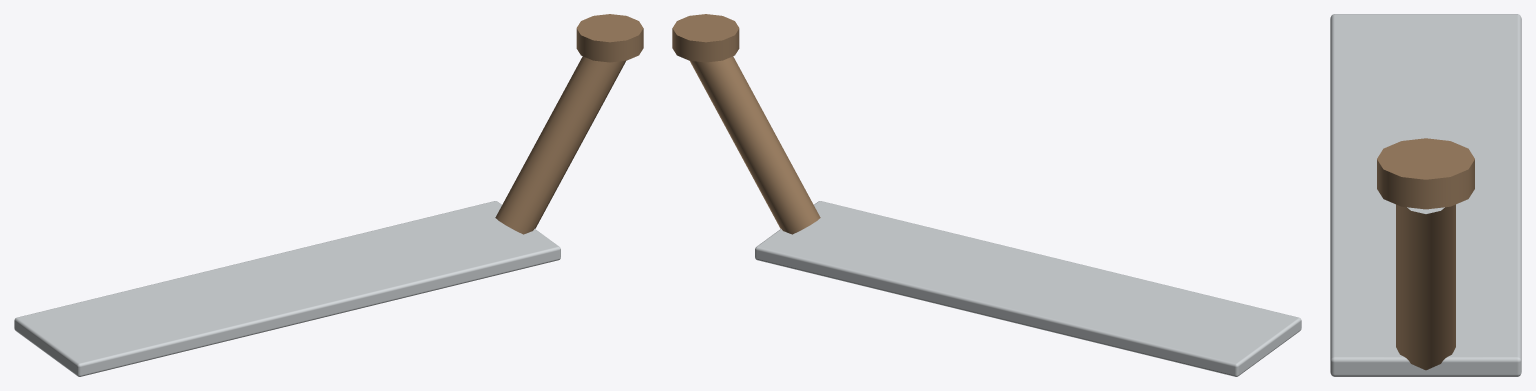
The model's file is chocolate-making-and-confectionery-mould-scraping-blad-3d37bac8__39155.glb.
3 renders of one model, left to right at view 1: azimuth 30°, elevation 25°; view 2: azimuth 150°, elevation 25°; view 3: azimuth 270°, elevation 25°, orthographic. The views are drawn at different scales.
Visible parts, largest first — view 1: mould-scraping-blade; view 2: mould-scraping-blade; view 3: mould-scraping-blade.
Boxes of the visible parts, left/top/right/bottom form: mould-scraping-blade: left=14, top=14, right=643, bottom=376; mould-scraping-blade: left=672, top=14, right=1301, bottom=376; mould-scraping-blade: left=1330, top=14, right=1521, bottom=376.
Bounding box in the file's own units: 0.368 × 0.112 × 0.07.
